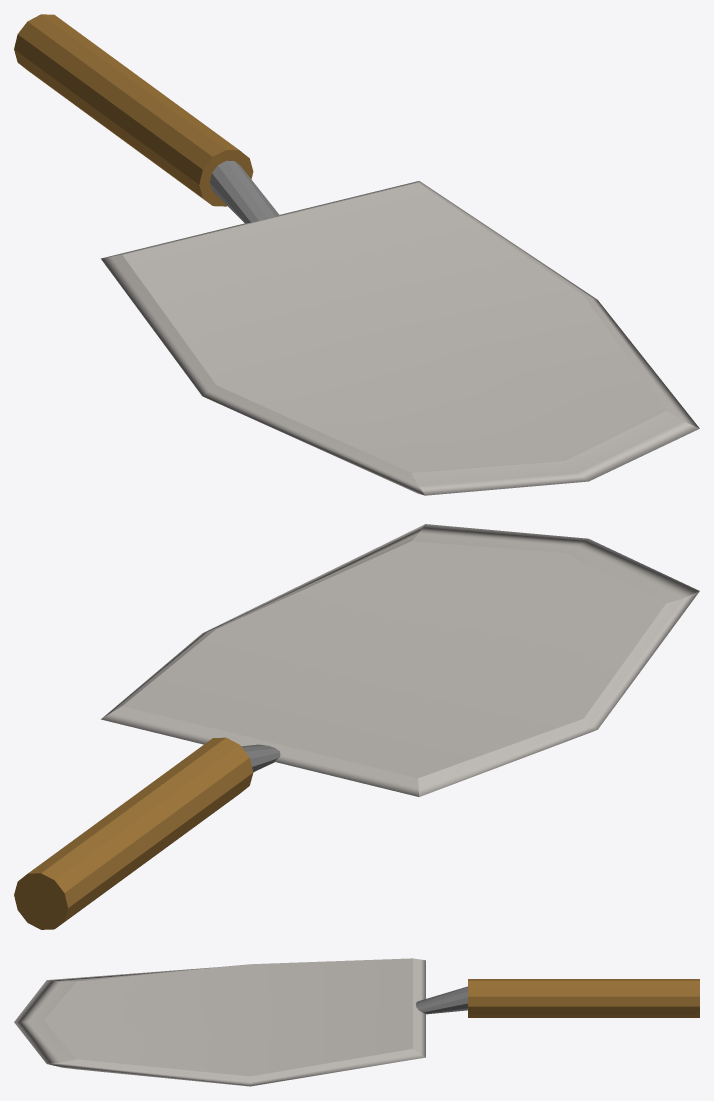
File: Pizza_spatula.fbx
3 renders of one model, top to bottom at view 1: azimuth 30°, elevation 25°; view 2: azimuth 150°, elevation 25°; view 3: azimuth 270°, elevation 25°, orthographic. The views are drawn at different scales.
Visible parts, largest first — view 1: pCube2; view 2: pCube2; view 3: pCube2.
Part boxes in pixels (x1=…): pCube2: x1=14, y1=14, x2=699, y2=495; pCube2: x1=14, y1=524, x2=699, y2=929; pCube2: x1=14, y1=958, x2=699, y2=1086.
Size of the model in its own units: 23.48 by 4.51 by 56.32.
